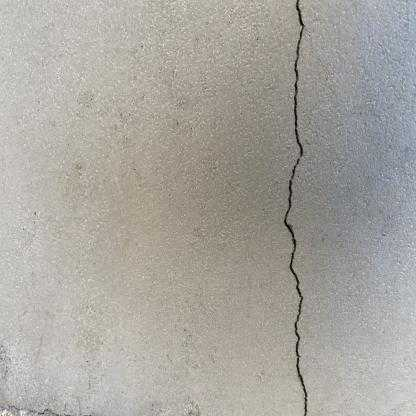crack: (283, 1, 308, 415)
